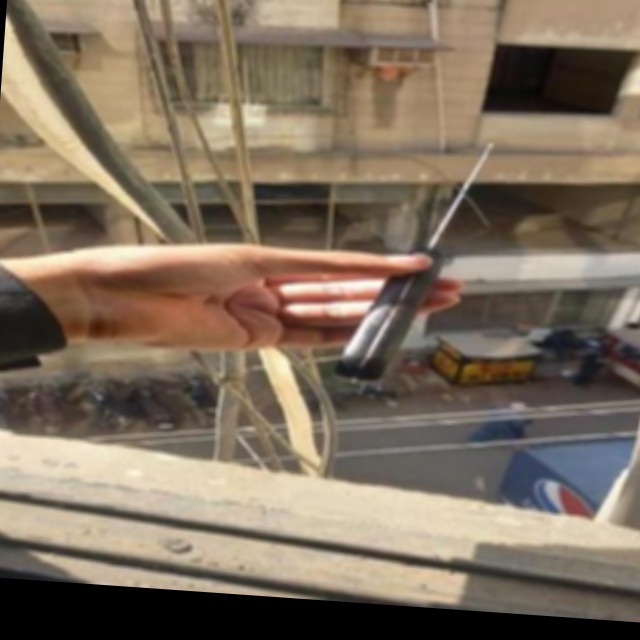Sharp-Object: (334, 134, 490, 389)
